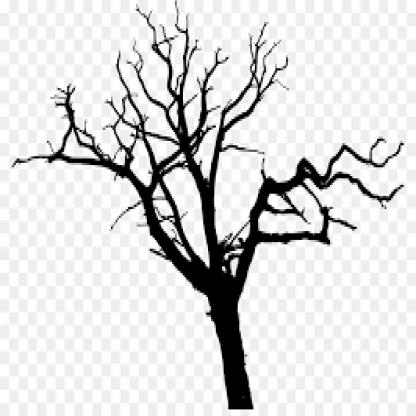branch_sharp: (6, 3, 407, 286)
trunk_reflex: (209, 326, 256, 394)
